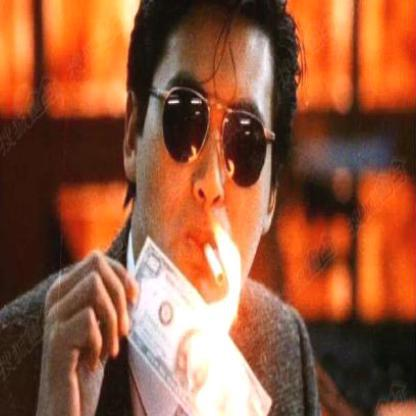cigarette: (202, 242, 224, 288)
person: (117, 0, 316, 415)
